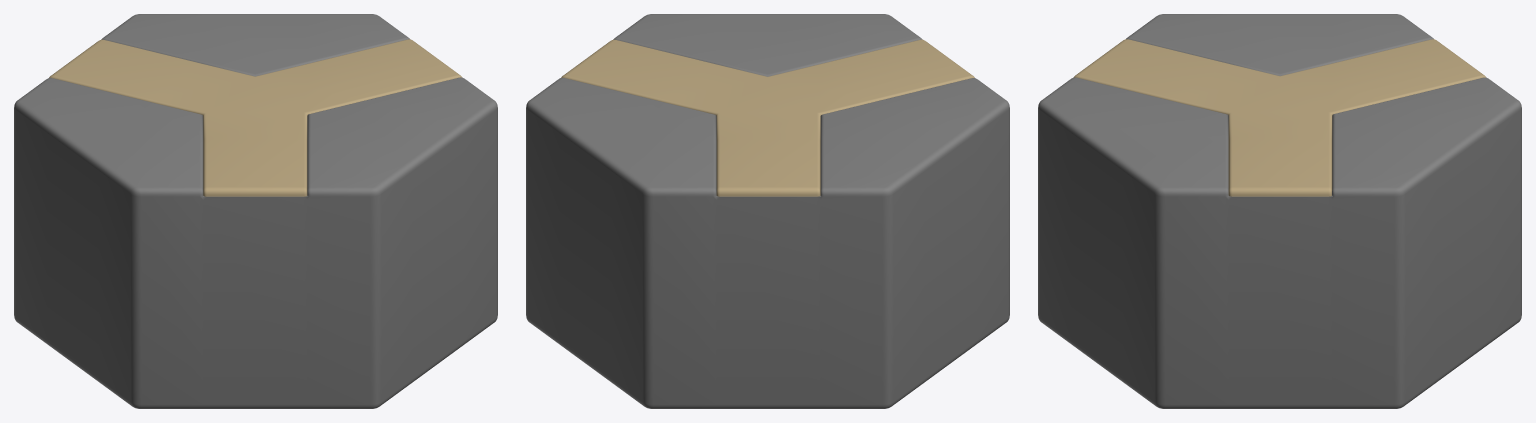
Rendered from Road6.fbx.
The picture shows the model from 3 angles, left to right: view 1: azimuth 30°, elevation 25°; view 2: azimuth 150°, elevation 25°; view 3: azimuth 270°, elevation 25°; orthographic projection.
Visible parts, largest first — view 1: Cylinder035; view 2: Cylinder035; view 3: Cylinder035.
Boxes of the visible parts, box(x1,y1,x2,y2) form: Cylinder035: box(14, 14, 497, 408); Cylinder035: box(526, 14, 1009, 408); Cylinder035: box(1038, 14, 1521, 408).
Size of the model in its own units: 173 by 100 by 199.
